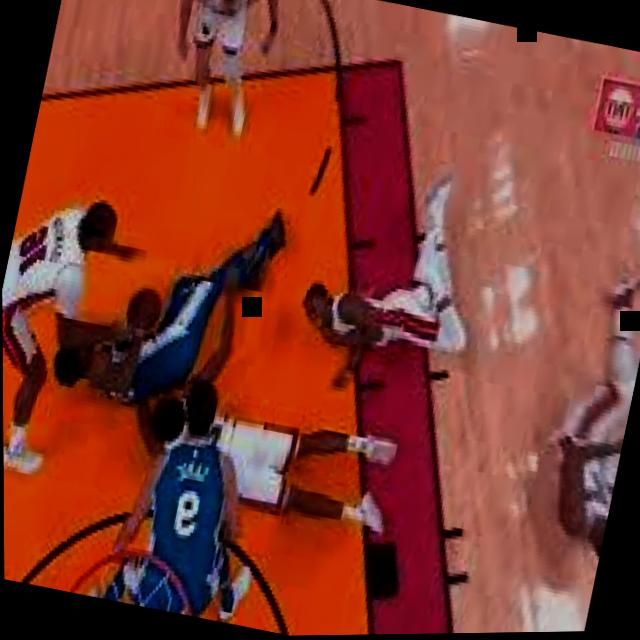Fall-Detected: (75, 164, 308, 438)
